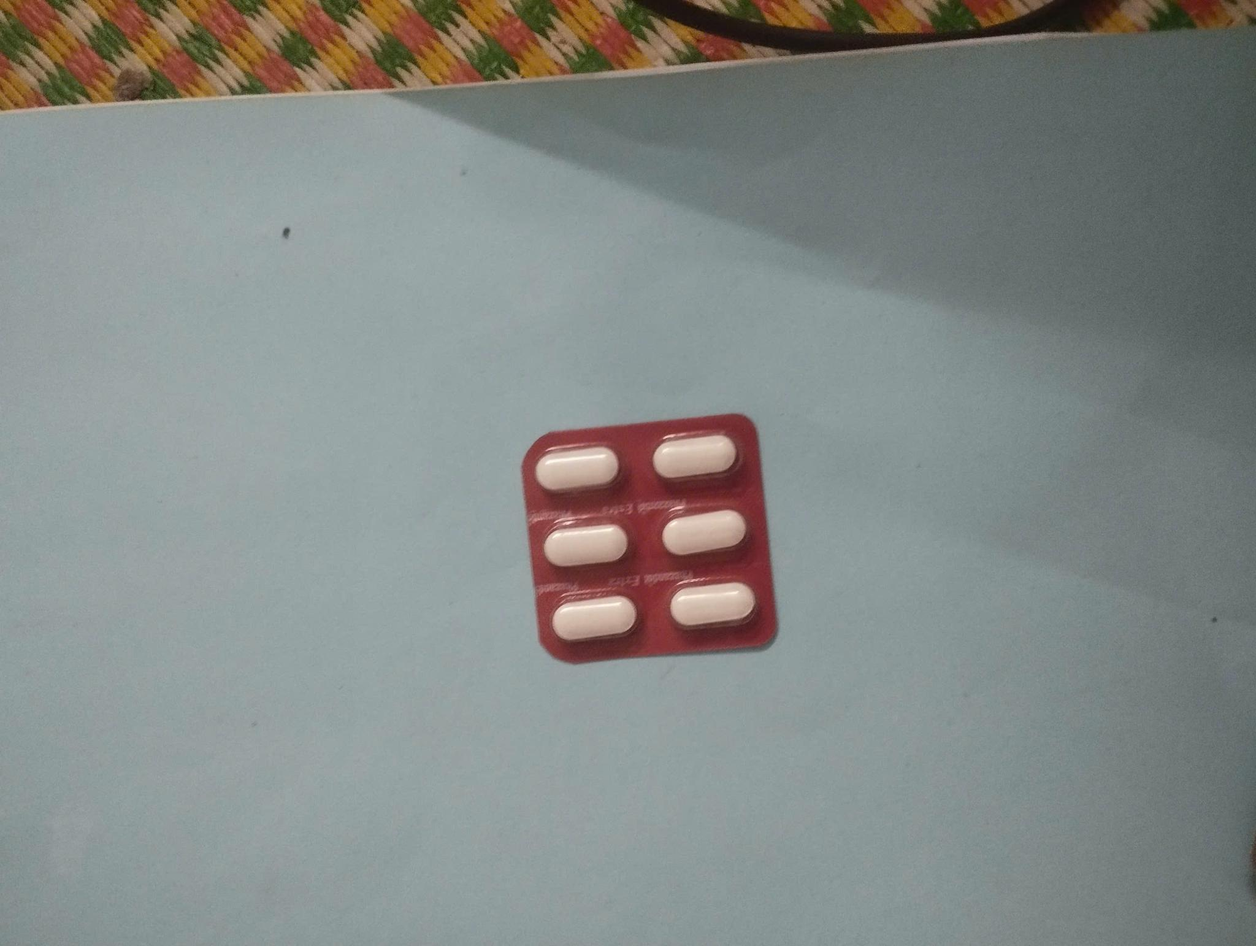Full: (527, 445, 627, 499), (668, 577, 756, 630), (649, 433, 738, 485), (661, 506, 745, 558), (549, 594, 638, 643), (542, 522, 633, 566)
